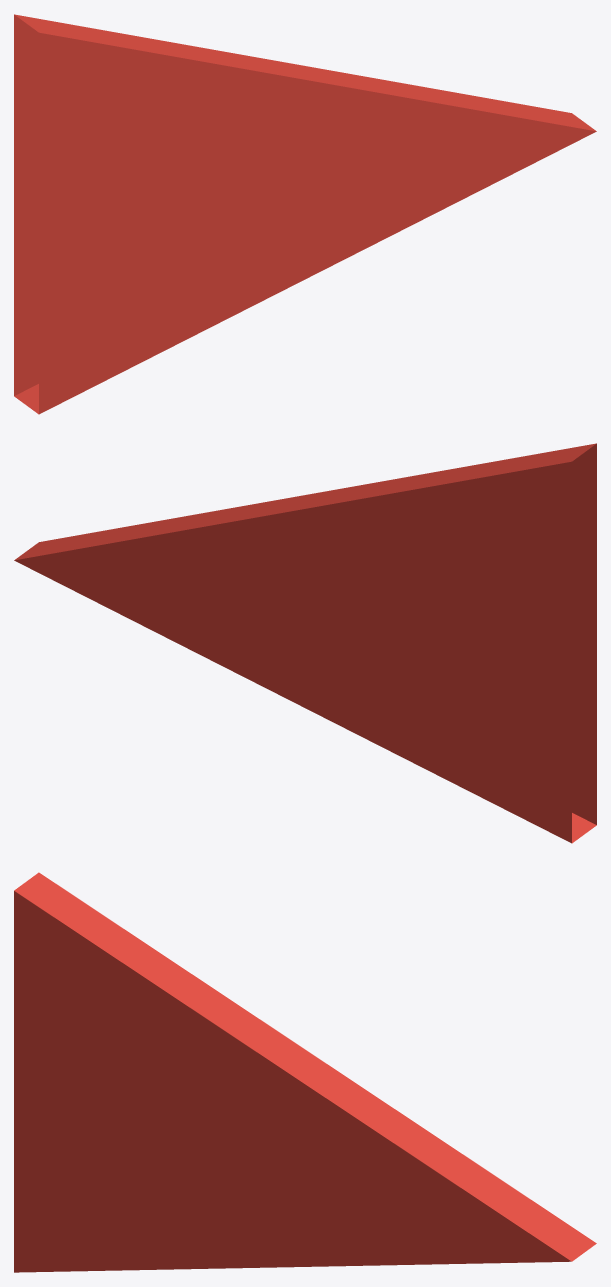
File: buildig.003_wood_(light)_(red)_0.001_lev3.glb
3 renders of one model, top to bottom at view 1: azimuth 30°, elevation 25°; view 2: azimuth 150°, elevation 25°; view 3: azimuth 330°, elevation 25°, orthographic.
Parts seen in each view (by area): view 1: buildig.003_wood_(light)_(red)_0.001_lev3; view 2: buildig.003_wood_(light)_(red)_0.001_lev3; view 3: buildig.003_wood_(light)_(red)_0.001_lev3.
Part boxes in pixels (x1,y1,x2,y2): buildig.003_wood_(light)_(red)_0.001_lev3: (14, 14, 596, 414); buildig.003_wood_(light)_(red)_0.001_lev3: (14, 443, 596, 843); buildig.003_wood_(light)_(red)_0.001_lev3: (14, 872, 596, 1272).
Size of the model in its own units: 0.0619 by 0.0405 by 0.0048.
